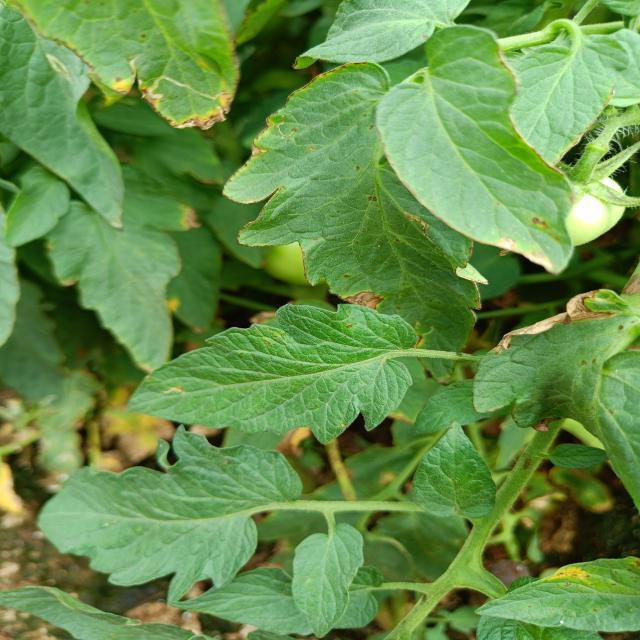Tomato mosaic virus leaf: (221, 147, 484, 351), (469, 286, 637, 434)
